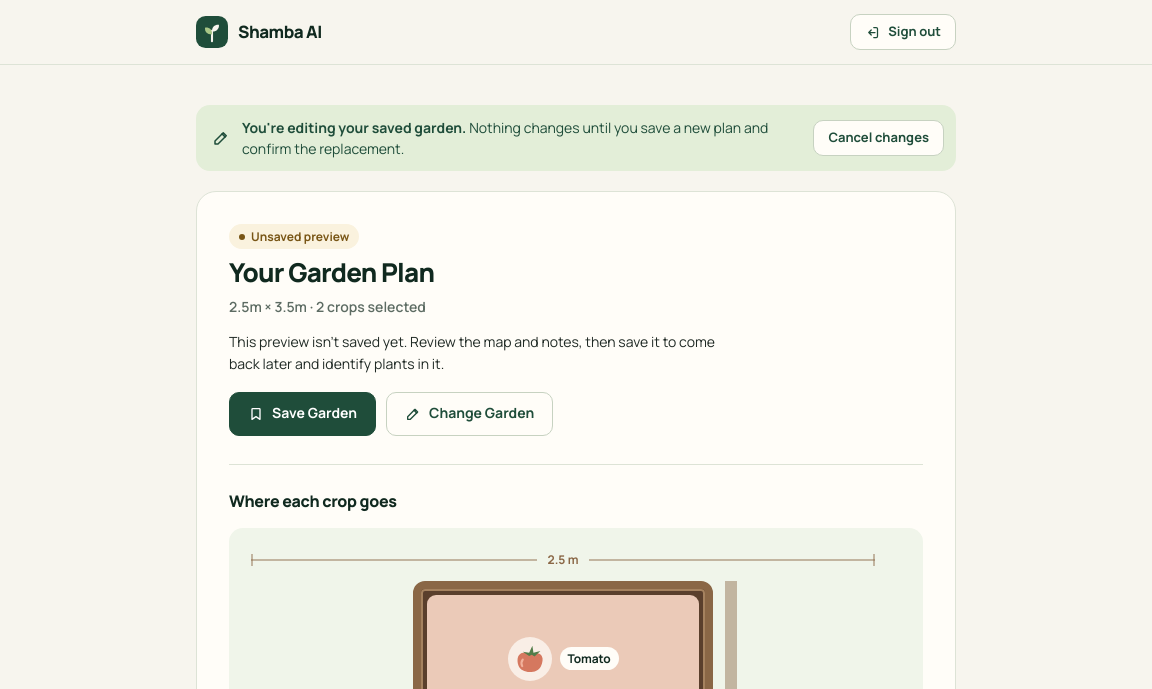
Test: saved garden journey with simulated server responses › preserves a visitor draft after sign-in and replaces only after confirmation
Expected: the text "2.5m × 3.5m · 2 crops selected" is shown, [229,296,426,319]
Click the button "Save Garden" at (303, 414), box [229,392,376,436]
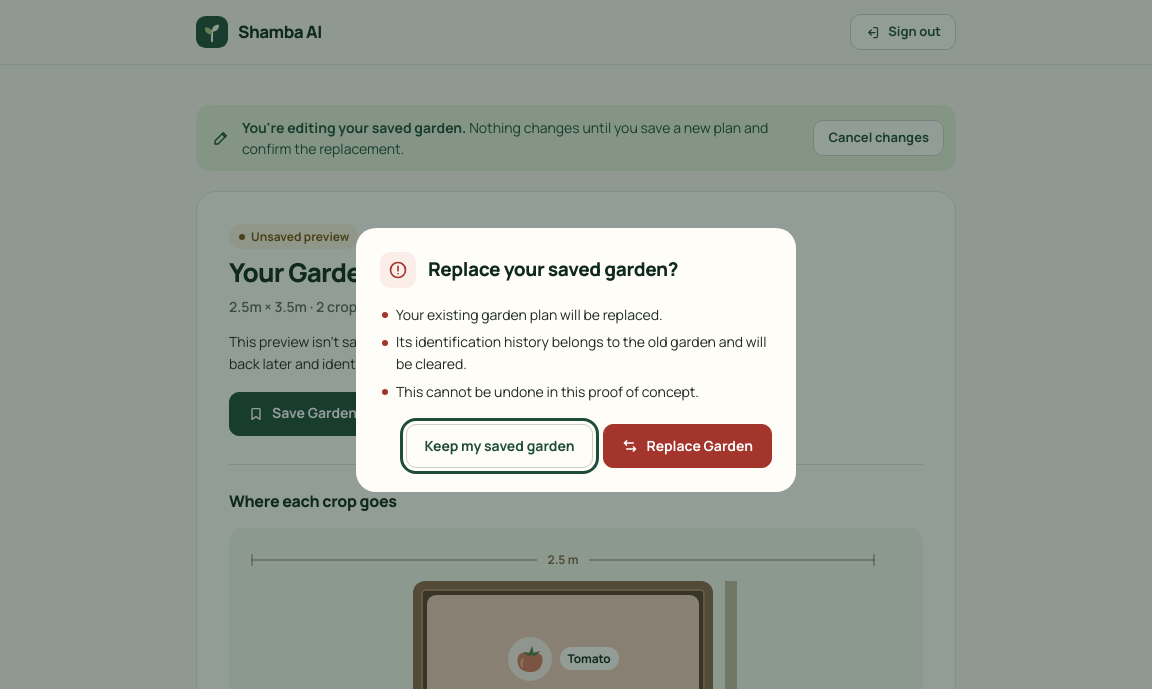
Expected: the dialog shows "cannot be undone", [396,382,699,401]
Expected: the dialog shows "history belongs to the old garden", [396,332,766,373]
Click the button "Keep my saved garden" at (500, 446), box [406,424,594,468]
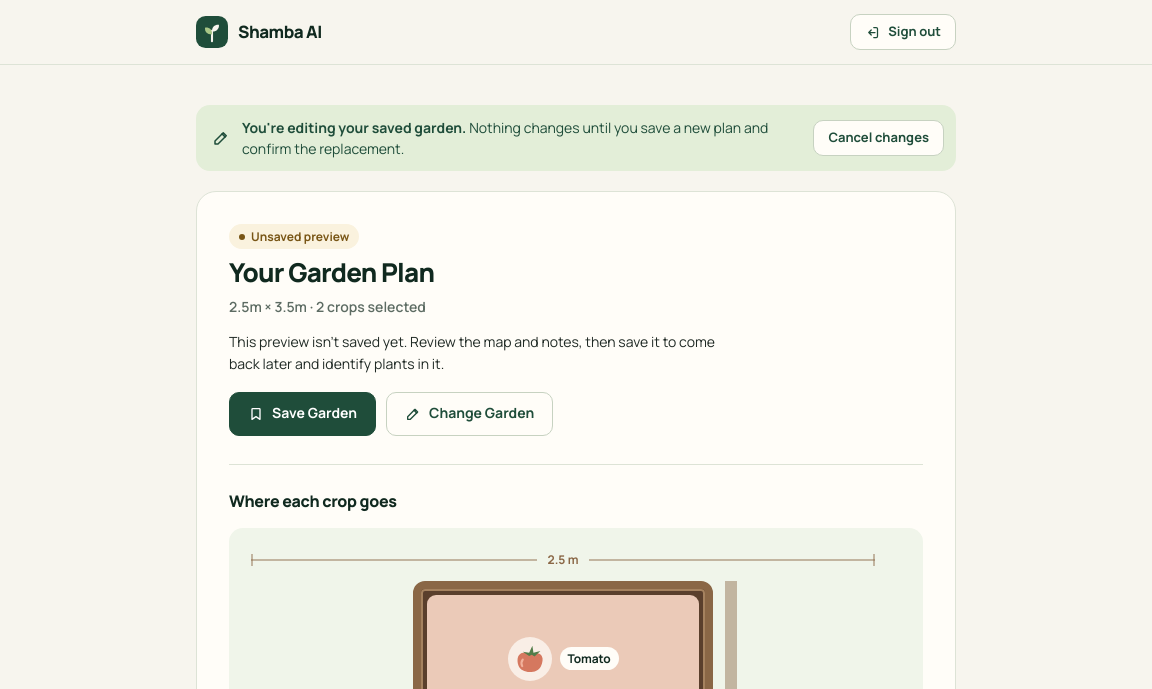
Expected: the dialog is gone
Click the button "Save Garden" at (303, 414), box [229,392,376,436]
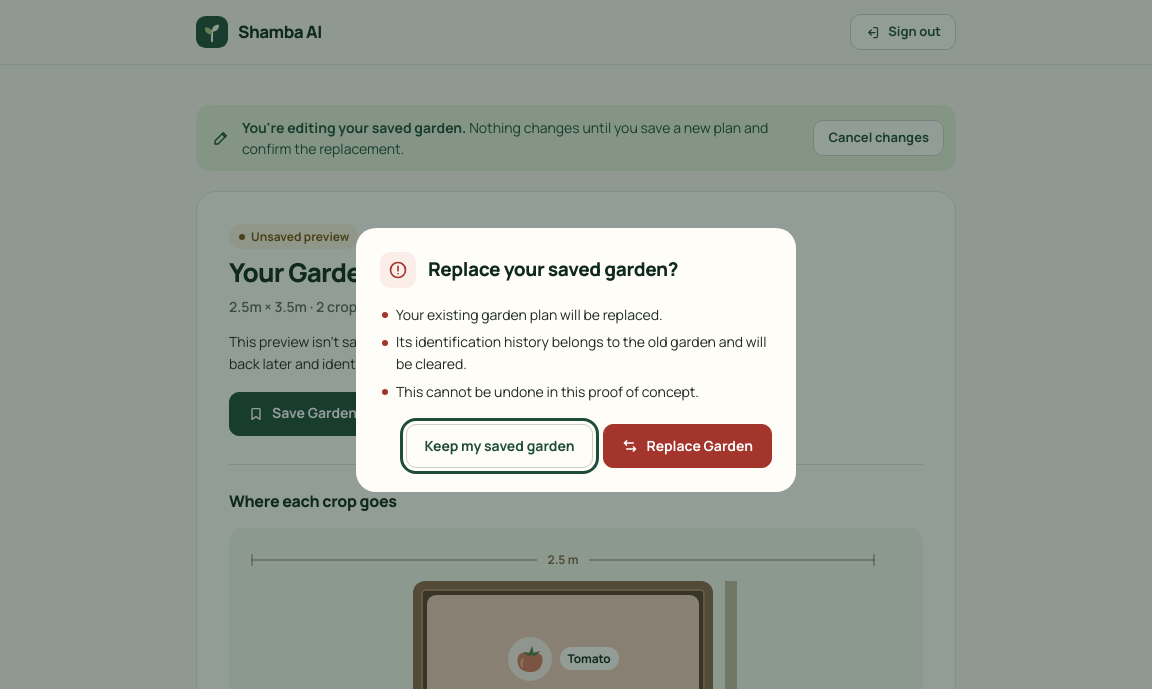
Click the button "Replace Garden" at (688, 446), box [604,424,772,468]
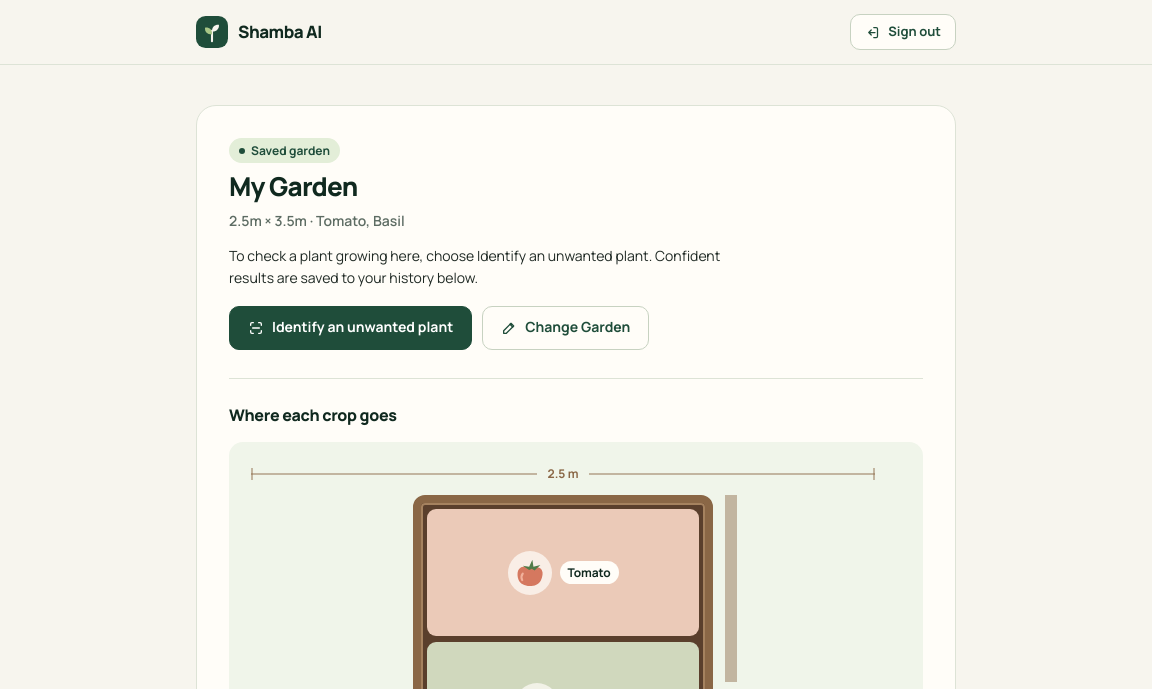
Expected: the heading "My Garden" is shown, [229,171,358,202]
